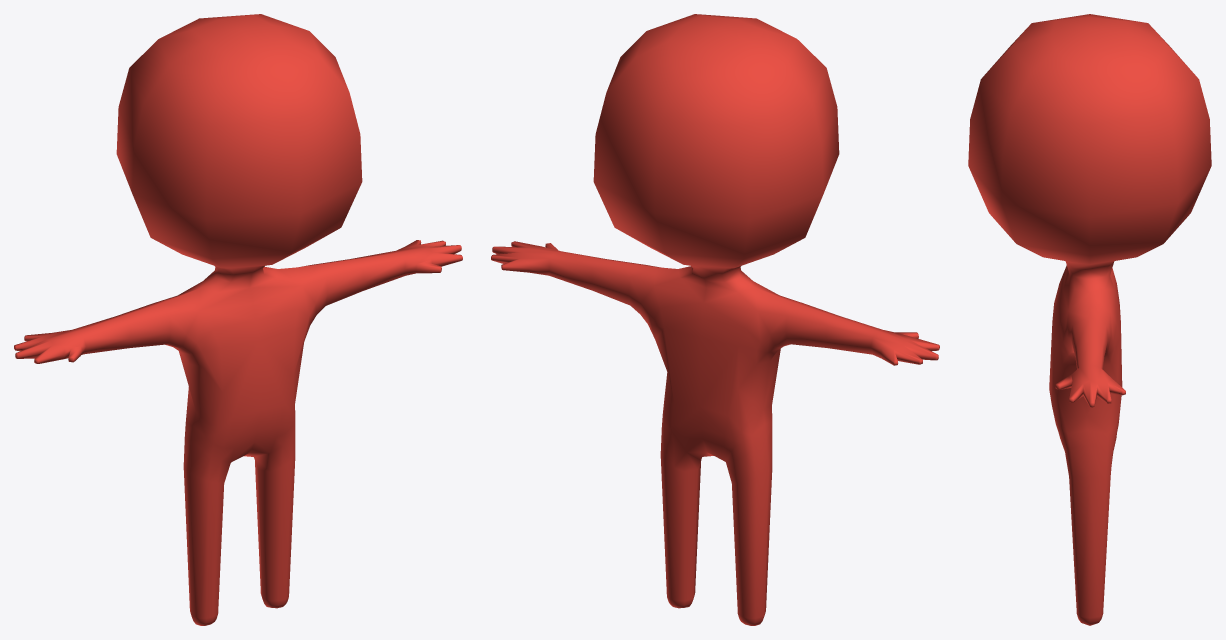
The model's file is character-new (1).fbx.
3 renders of one model, left to right at view 1: azimuth 30°, elevation 25°; view 2: azimuth 150°, elevation 25°; view 3: azimuth 270°, elevation 25°, orthographic.
Visible parts, largest first — view 1: character; view 2: character; view 3: character.
Part boxes in pixels (box(x1,y1,x2,y2)): character: box(14, 14, 462, 625); character: box(491, 14, 939, 625); character: box(968, 14, 1211, 625).
Bounding box in the file's own units: 1 × 1.26 × 0.4803.
